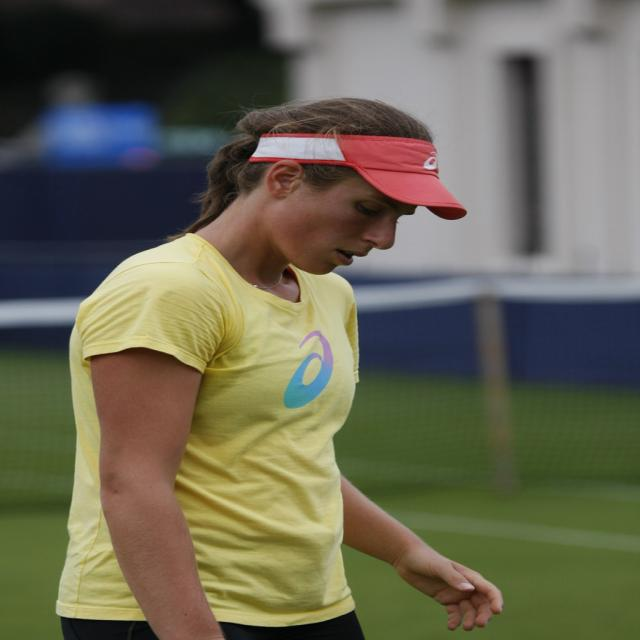no_helmet: (237, 73, 435, 266)
